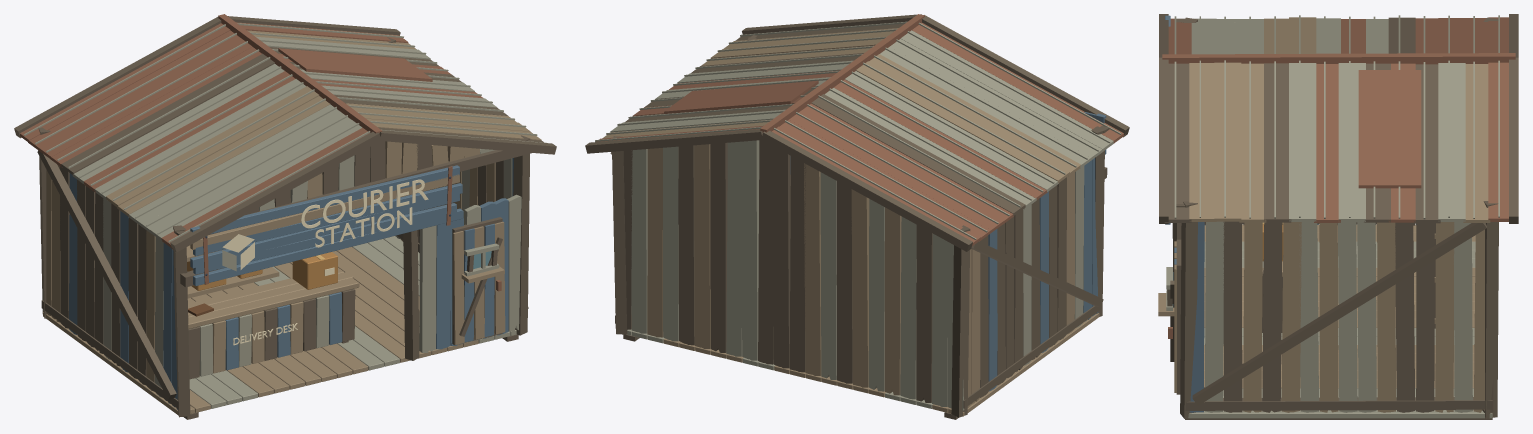
File: bld_courier_station.glb
The picture shows the model from 3 angles, left to right: view 1: azimuth 30°, elevation 25°; view 2: azimuth 150°, elevation 25°; view 3: azimuth 270°, elevation 25°; orthographic projection. The views are drawn at different scales.
Visible parts, largest first — view 1: bld_courier_station, bld_courier_station__Side_external_brace_-1, bld_courier_station__Roof_edge_left_-1, bld_courier_station__Roof_repair_patch, bld_courier_station__Corner_post_-1_-1, bld_courier_station__Roof_edge_right_-1, bld_courier_station__Corner_post_1_-1, bld_courier_station__Service_mullion, bld_courier_station__Roof_peak_cap, bld_courier_station__Front_header_beam, bld_courier_station__Courier_letters, bld_courier_station__Desk_parcel (+3 smaller); view 2: bld_courier_station, bld_courier_station__Roof_repair_patch, bld_courier_station__Roof_edge_left_-1, bld_courier_station__Roof_peak_cap, bld_courier_station__Side_external_brace_-1, bld_courier_station__Corner_post_-1_-1, bld_courier_station__Side_crossbeam_-1_0.31, bld_courier_station__Roof_edge_right_-1; view 3: bld_courier_station, bld_courier_station__Roof_repair_patch, bld_courier_station__Roof_peak_cap, bld_courier_station__Side_crossbeam_1_0.31, bld_courier_station__Corner_post_1_-1, bld_courier_station__Roof_edge_right_-1, bld_courier_station__Side_door, bld_courier_station__Floor_runner_3.23, bld_courier_station__Roof_edge_left_-1.
Boxes of the visible parts, box(x1,y1,x2,y2) form: bld_courier_station: box(14, 16, 546, 414); bld_courier_station__Side_external_brace_-1: box(37, 150, 176, 399); bld_courier_station__Roof_edge_left_-1: box(170, 131, 381, 252); bld_courier_station__Roof_repair_patch: box(278, 48, 432, 81); bld_courier_station__Corner_post_-1_-1: box(173, 225, 190, 417); bld_courier_station__Roof_edge_right_-1: box(379, 130, 556, 154); bld_courier_station__Corner_post_1_-1: box(513, 135, 530, 335); bld_courier_station__Service_mullion: box(403, 230, 419, 360); bld_courier_station__Roof_peak_cap: box(218, 14, 382, 133); bld_courier_station__Front_header_beam: box(174, 139, 532, 235); bld_courier_station__Courier_letters: box(301, 179, 428, 228); bld_courier_station__Desk_parcel: box(292, 252, 337, 289); bld_courier_station: box(585, 21, 1125, 417); bld_courier_station__Roof_repair_patch: box(664, 80, 818, 113); bld_courier_station__Roof_edge_left_-1: box(922, 15, 1129, 137); bld_courier_station__Roof_peak_cap: box(760, 14, 924, 132); bld_courier_station__Side_external_brace_-1: box(971, 241, 1103, 307); bld_courier_station__Corner_post_-1_-1: box(1091, 126, 1105, 316); bld_courier_station__Side_crossbeam_-1_0.31: box(963, 305, 1101, 408); bld_courier_station__Roof_edge_right_-1: box(742, 14, 921, 34); bld_courier_station: box(1164, 14, 1518, 418); bld_courier_station__Roof_repair_patch: box(1358, 70, 1421, 188); bld_courier_station__Roof_peak_cap: box(1162, 53, 1515, 64); bld_courier_station__Side_crossbeam_1_0.31: box(1185, 397, 1492, 410); bld_courier_station__Corner_post_1_-1: box(1180, 201, 1197, 418); bld_courier_station__Roof_edge_right_-1: box(1159, 57, 1168, 223); bld_courier_station__Side_door: box(1176, 239, 1181, 394); bld_courier_station__Floor_runner_3.23: box(1185, 418, 1492, 419); bld_courier_station__Roof_edge_left_-1: box(1159, 14, 1168, 57).
Bounding box in the file's own units: 7.72 × 4.88 × 5.62.
